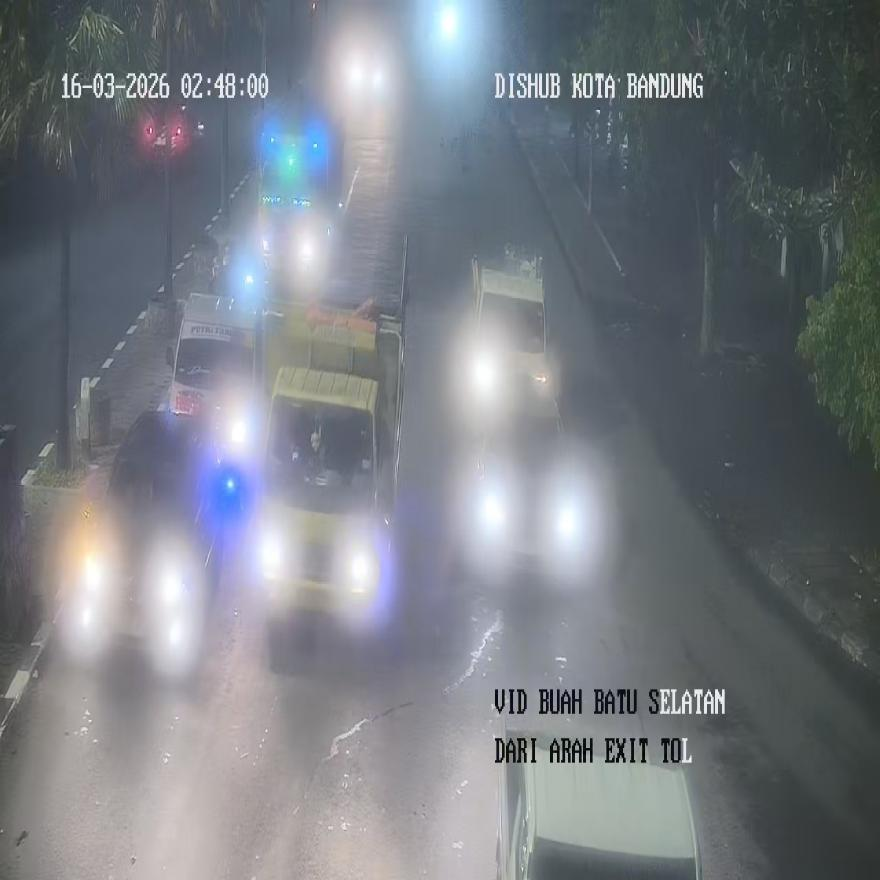Motor: (61, 407, 226, 686), (494, 716, 703, 878)
